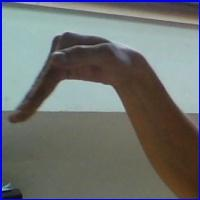del: (9, 26, 149, 141)
